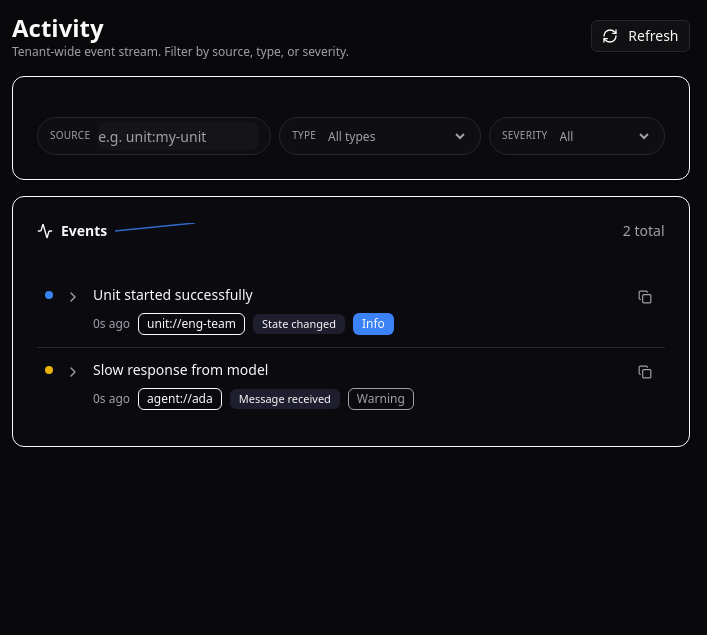
ActivityPage › expands event details on click
Check: the text "Unit started successfully" is shown, box [93,285,253,304]
What coordinates should you click on to do the following:
click the button that starts with "Unit started successfully"
I would click on:
 (351, 310)
Its box is [37,273,664,347].
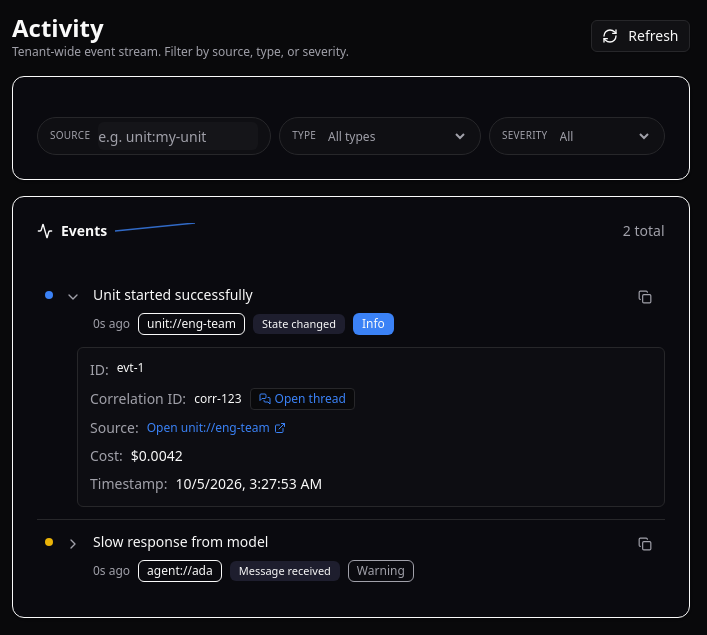
Check: the text "corr-123" is shown, box [194,391,242,407]
Check: the text "$0.0042" is shown, box [131,446,183,466]
